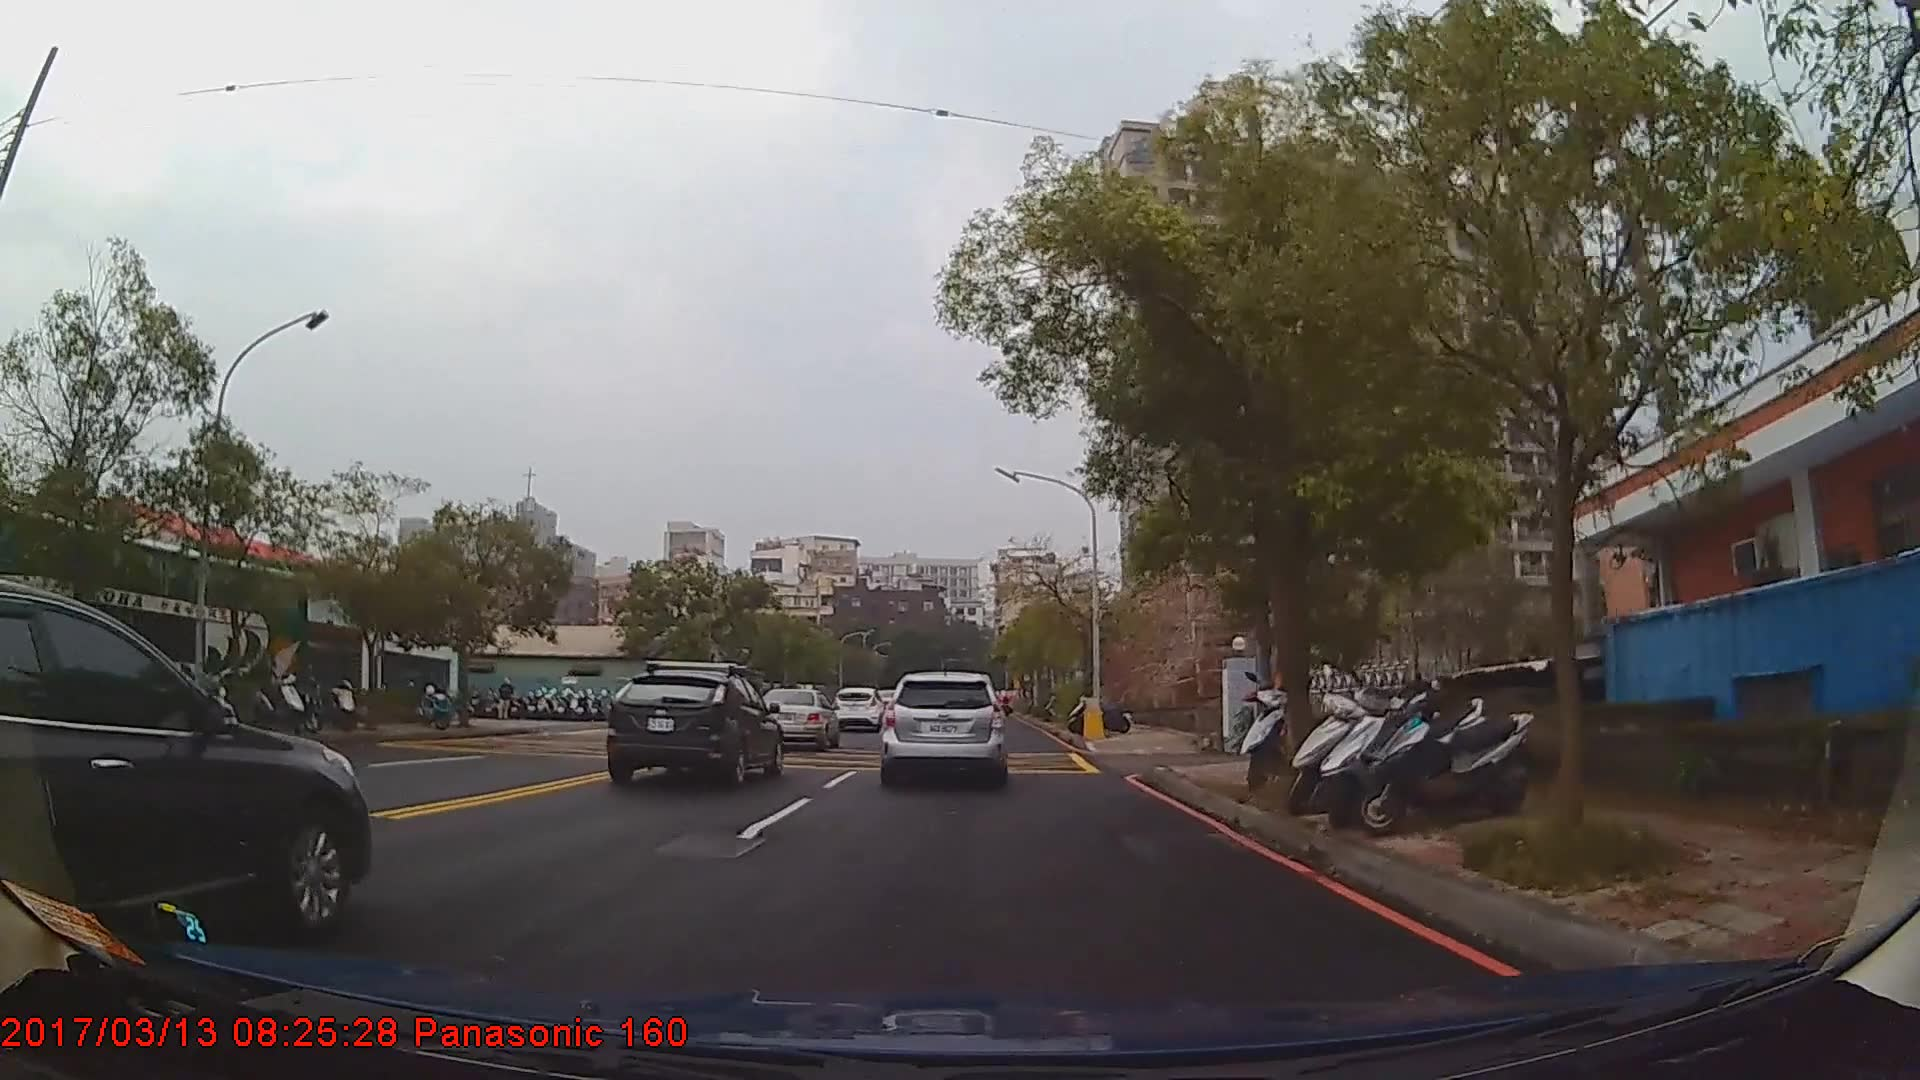vehicle: (0, 576, 372, 959), (0, 500, 302, 738), (603, 667, 782, 789), (881, 669, 1005, 789), (754, 684, 837, 750), (829, 684, 884, 729)
